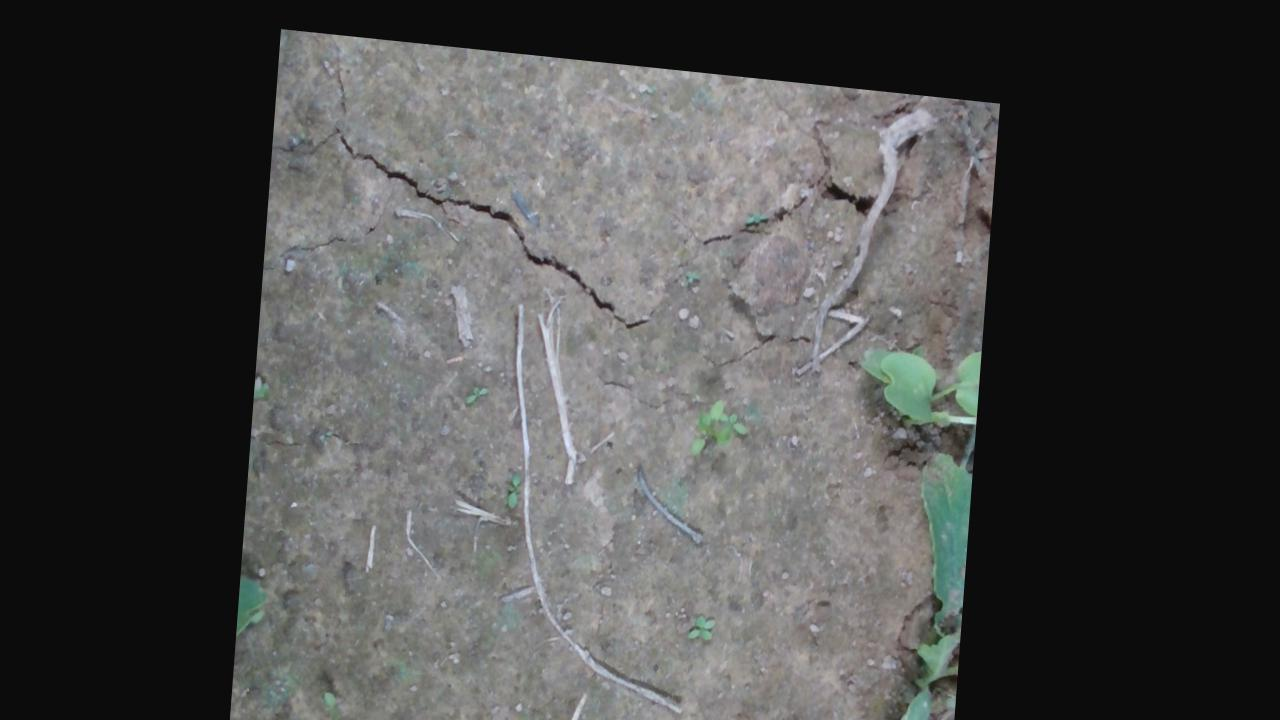weed: (696, 596, 727, 626), (513, 456, 530, 498), (470, 372, 496, 395), (688, 249, 707, 270)
